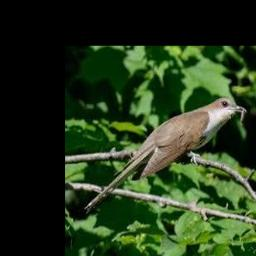Cuckoo: (84, 96, 246, 214)
